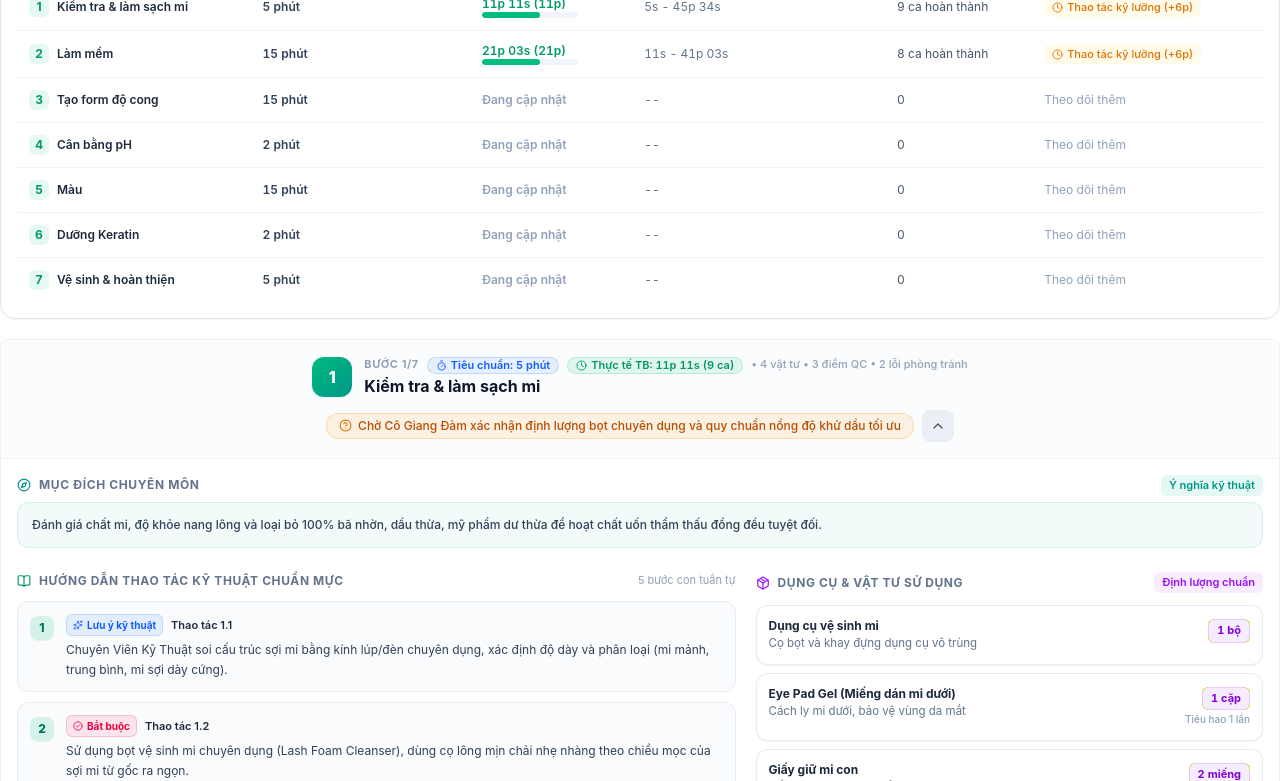
Test: PilotSopDetailView (MOS-FEAT-171 SOP Hạng Mục 2) › toggles individual step accordion open and closed
Expected: the text "Đánh giá chất mi, độ khỏe nang lông và loại bỏ 100% bã nhờn" is shown, [32, 517, 822, 532]
Note: Click step 1 header to collapse
What coordinates should you click on to do the following:
click the element with test id "step-header-1"
I would click on:
 (640, 400)
Its box is [1, 340, 1279, 459].
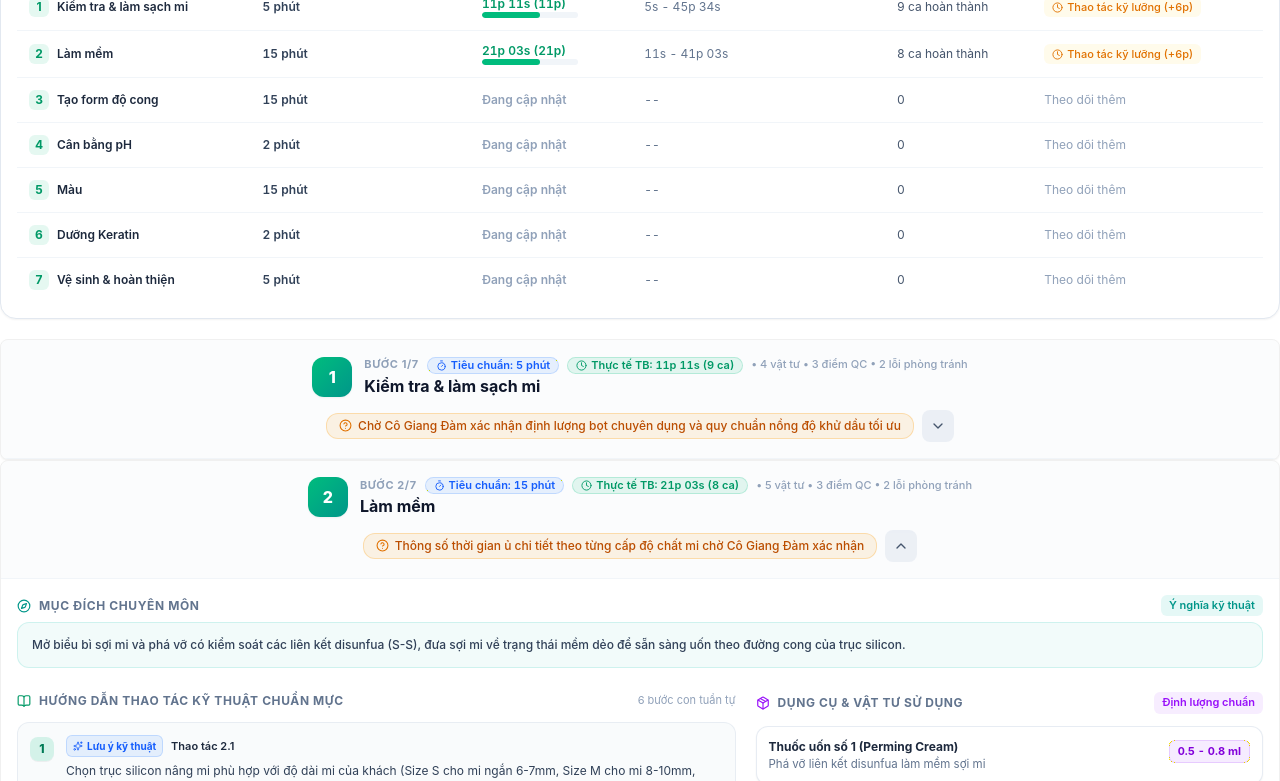
Expected: the text "Đánh giá chất mi, độ khỏe nang lông và loại bỏ 100% bã nhờn" is gone
Note: Click again to re-expand
What coordinates should you click on to do the following:
click the element with test id "step-header-1"
I would click on:
 (640, 400)
Its box is [1, 340, 1279, 459].
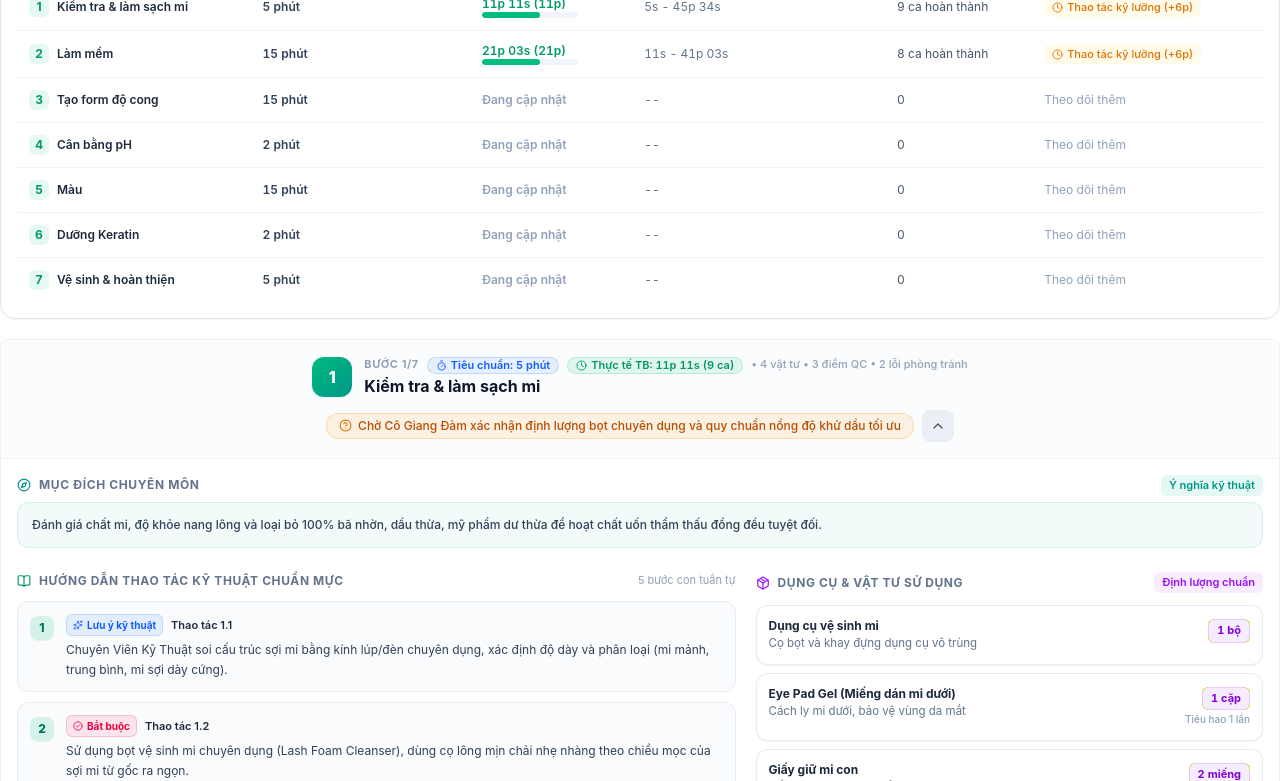
Expected: the text "Đánh giá chất mi, độ khỏe nang lông và loại bỏ 100% bã nhờn" is shown, [32, 517, 822, 532]
